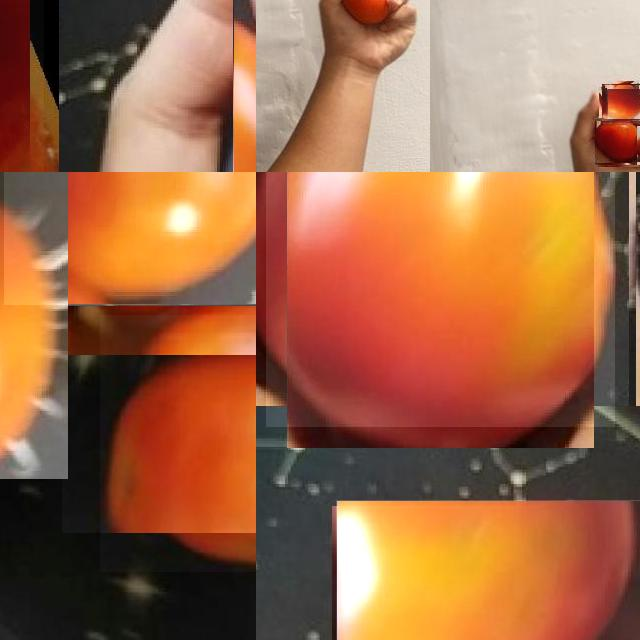0: (100, 315, 256, 572), (4, 172, 256, 305), (0, 172, 68, 479), (595, 119, 640, 165), (602, 84, 640, 124)
Fresh Tomato: (266, 172, 615, 427), (336, 500, 640, 640)
